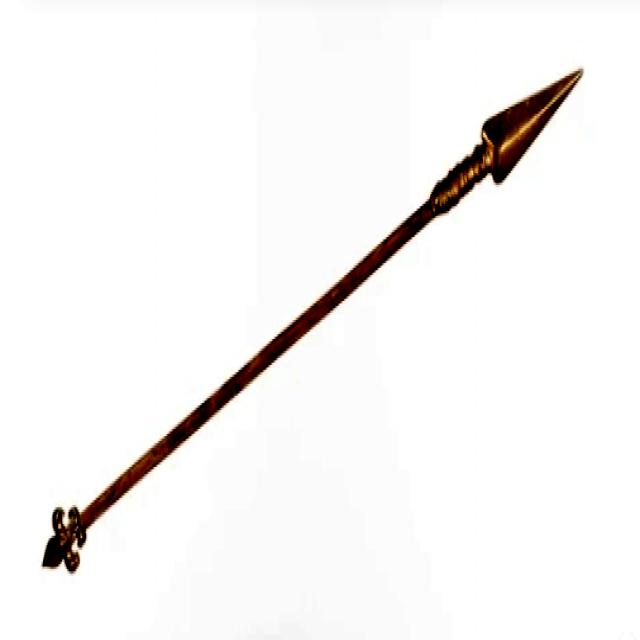spear: (42, 59, 595, 577)
